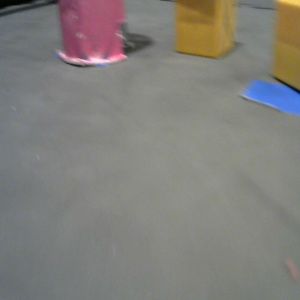middle: (57, 1, 128, 66)
